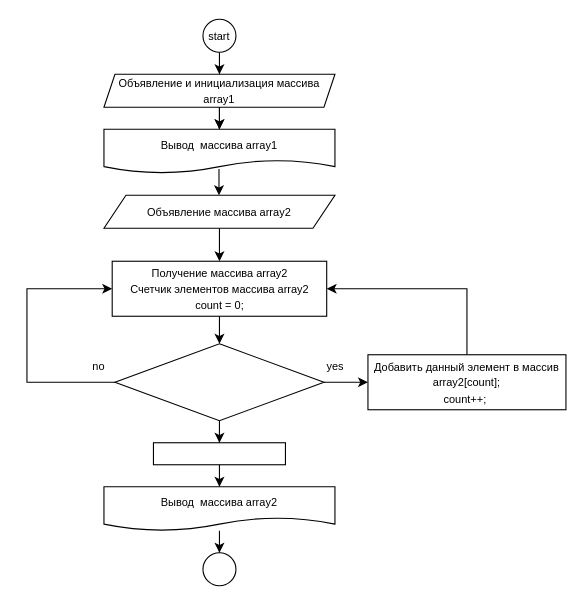
Image size: 585x605. Some labels were removed from this diagram. The centre of each missing label's shape, as x and y in pixels:
"end" belongs at (219,569).
"В цикле for, если длина элемента массива array1[i] <= 3" belongs at (219,382).
"Конец цикла for" belongs at (218,453).
